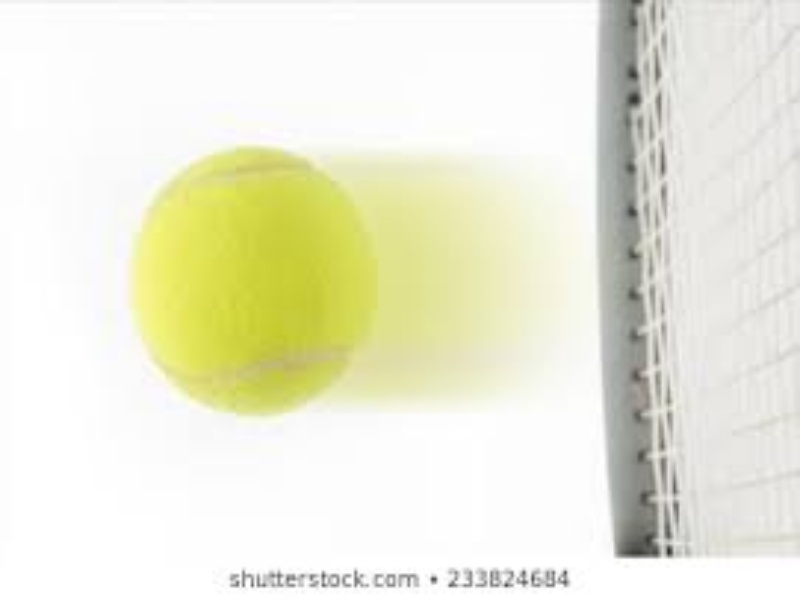tennis ball: (136, 138, 392, 416)
